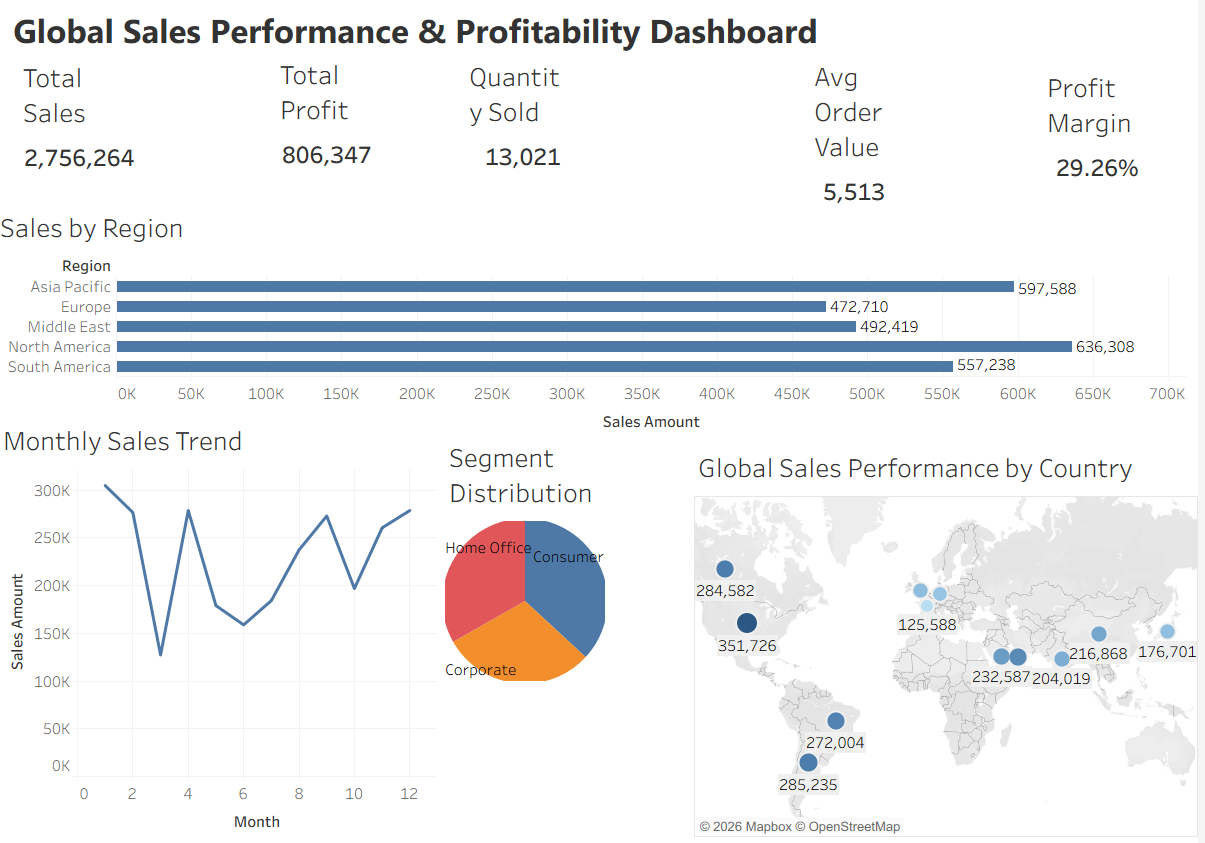

What the dashboard file says about the page in this screenshot:
{"tool":"tableau","page":{"name":"Dashboard 1","canvas":[1000,1000],"units":"permille","ordinal":0},"visuals":[{"type":"title","box":[6.7,9.4,986.7,61]},{"type":"worksheet","title":"Total Profit","mark":"Automatic","box":[231.7,68.1,155.8,165.5]},{"type":"worksheet","title":"Quantity Sold","mark":"Automatic","box":[389.2,70.4,161.7,149.1]},{"type":"worksheet","title":"Avg Order Value","mark":"Automatic","box":[676.7,70.4,142.5,186.6]},{"type":"worksheet","title":"Total Sales","mark":"Automatic","box":[17.5,71.6,182.5,189]},{"type":"worksheet","title":"Profit Margin","mark":"Automatic","box":[870.8,83.3,119.2,151.4]},{"type":"worksheet","title":"Monthly Sales Trend","mark":"Line","rows":["Sales Amount"],"cols":["Month"],"box":[0.8,497.7,365,493]},{"type":"worksheet","title":"Segment Distribution","mark":"Pie","box":[372.5,517.6,195,466]},{"type":"worksheet","title":"Global Sales Performance by Country","mark":"Automatic","box":[580,529.3,420,458.9]}]}

Visuals, with their boxes on the dashboard's canvas, which has no fixed pixel size, in thousandths of its width and height (x1, y1, x2, y2). These are canvas units, not pixel positions in the 1205x843 screenshot, which may show the page scaled, cropped or inside an application window:
title: l=7, t=9, r=993, b=70
"Total Profit" worksheet: l=232, t=68, r=388, b=234
"Quantity Sold" worksheet: l=389, t=70, r=551, b=220
"Avg Order Value" worksheet: l=677, t=70, r=819, b=257
"Total Sales" worksheet: l=18, t=72, r=200, b=261
"Profit Margin" worksheet: l=871, t=83, r=990, b=235
"Monthly Sales Trend" worksheet (Line marks): l=1, t=498, r=366, b=991
"Segment Distribution" worksheet (Pie marks): l=372, t=518, r=568, b=984
"Global Sales Performance by Country" worksheet: l=580, t=529, r=1000, b=988
